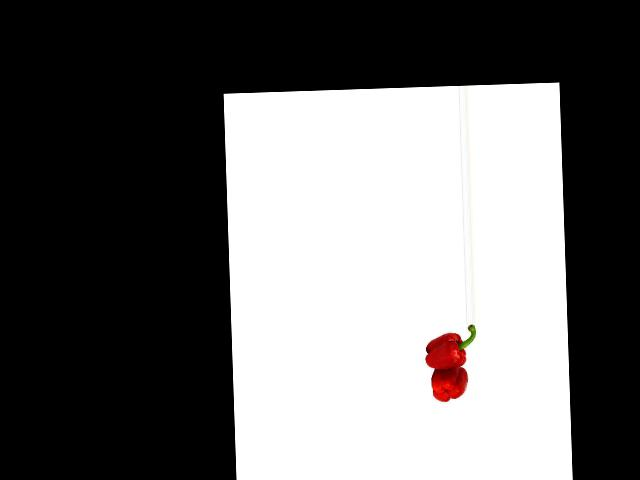bell_pepper: (428, 366, 470, 402)
